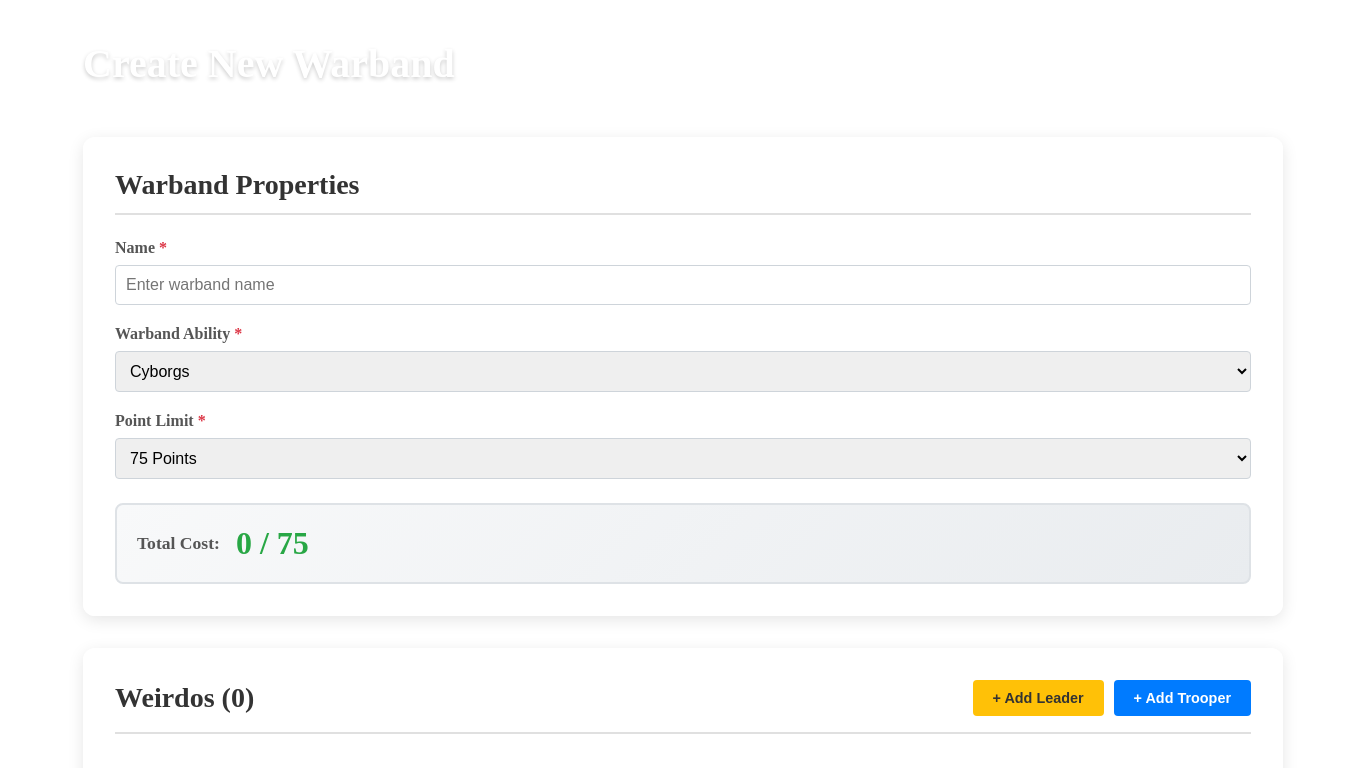
Test: WarbandEditor Component › Adding weirdos › should add trooper when Add Trooper button is clicked
Expected: the heading "Create New Warband" is shown, top-left (83, 40), bottom-right (455, 87)
Click the button "+ Add Trooper": (1182, 698) top-left (1114, 680), bottom-right (1251, 716)
(page scrolled)
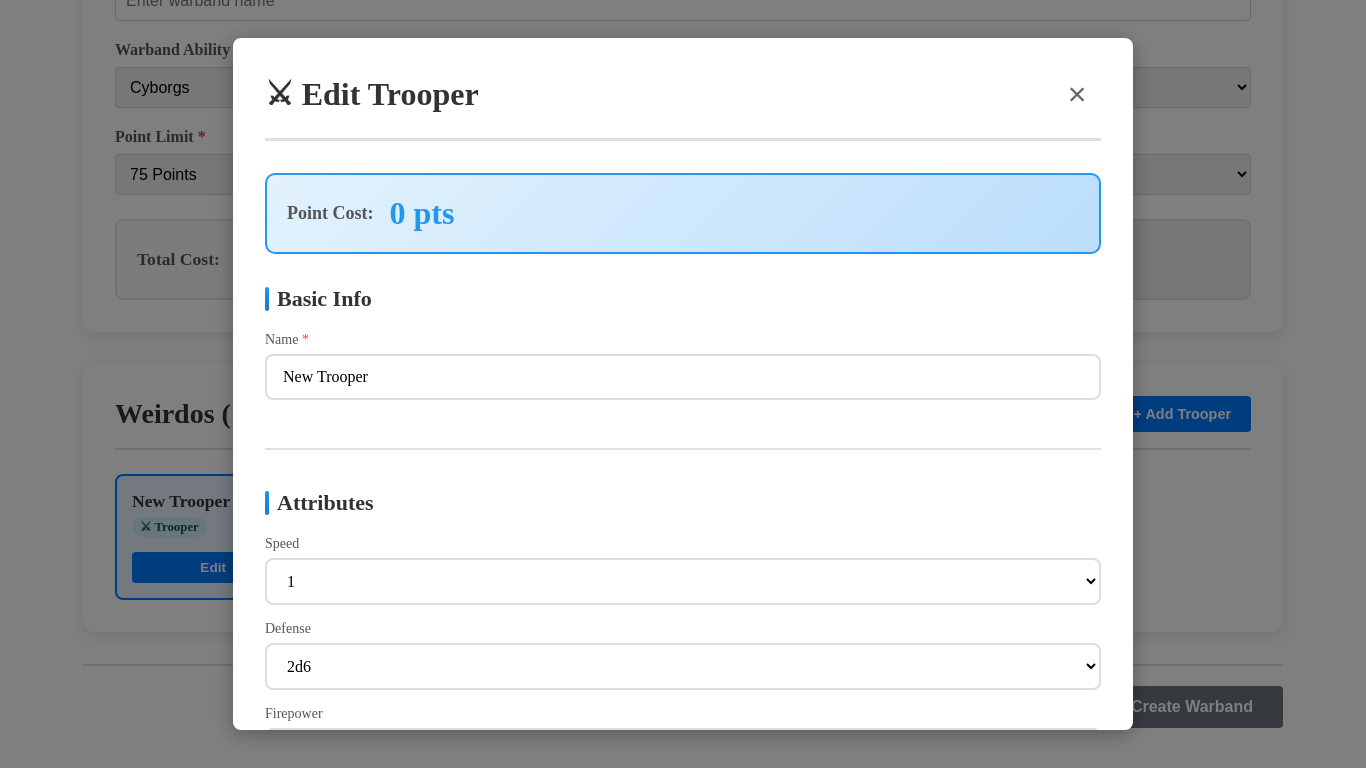
Result: the heading "New Trooper" is shown at top-left (132, 491), bottom-right (230, 512)
